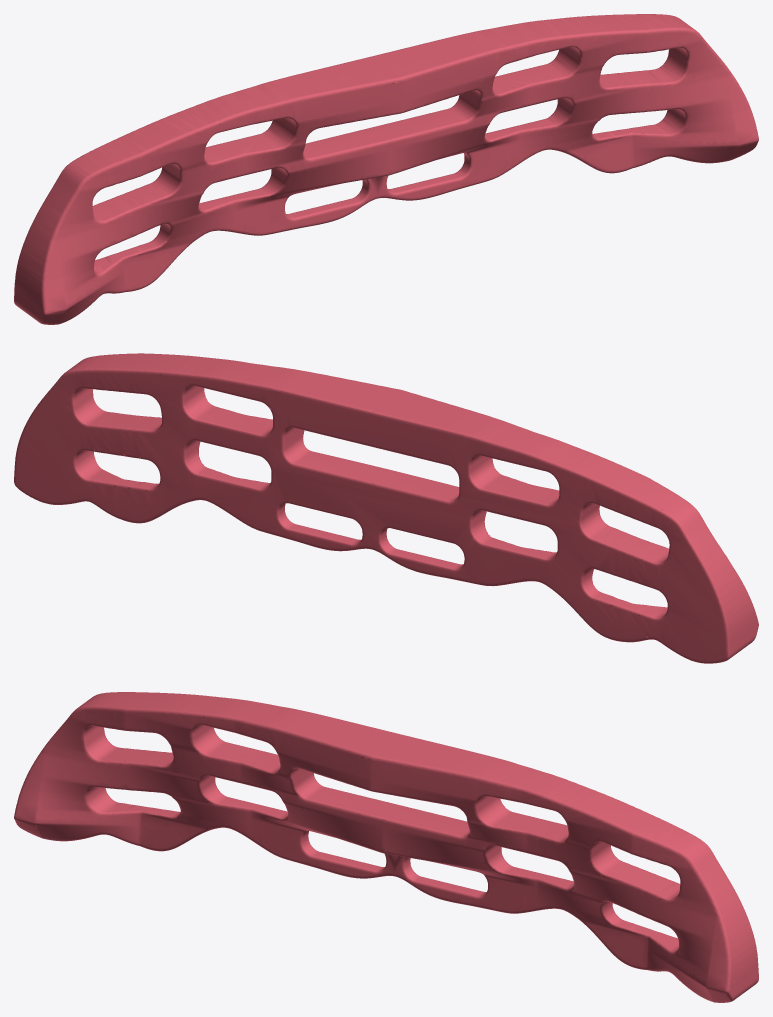
File: escape-beta-board-22.glb
3 views of the same model, one above another, from view 1: azimuth 30°, elevation 25°; view 2: azimuth 150°, elevation 25°; view 3: azimuth 330°, elevation 25° (orthographic).
Visible parts, largest first — view 1: body-board, left-sloper-50, left-jug-38, right-sloper-50, left-sloper-31, right-sloper-31, left-wide-pinch, right-incut-29, right-incut-12, left-flat-38, left-incut-29, left-thin-pinch (+11 smaller); view 2: body-board, left-jug-38, left-flat-38, left-sloper-50, right-sloper-50, right-flat-38, left-thin-pinch, left-wide-pinch, right-jug-38, right-sloper-31, left-sloper-31, left-flat-29 (+7 smaller); view 3: body-board, right-sloper-50, right-jug-38, left-sloper-50, right-sloper-31, left-sloper-31, right-wide-pinch, left-incut-29, left-incut-12, right-flat-38, right-incut-29, right-thin-pinch (+11 smaller).
Boxes of the visible parts, x1=… form: body-board: x1=85, y1=33, x2=698, y2=278; left-sloper-50: x1=278, y1=56, x2=401, y2=123; left-jug-38: x1=66, y1=114, x2=197, y2=186; right-sloper-50: x1=372, y1=33, x2=491, y2=104; left-sloper-31: x1=282, y1=127, x2=389, y2=196; right-sloper-31: x1=372, y1=104, x2=486, y2=174; left-wide-pinch: x1=14, y1=245, x2=87, y2=324; right-incut-29: x1=582, y1=58, x2=697, y2=122; right-incut-12: x1=576, y1=117, x2=699, y2=173; left-flat-38: x1=174, y1=80, x2=301, y2=140; left-incut-29: x1=86, y1=184, x2=190, y2=252; left-thin-pinch: x1=23, y1=167, x2=86, y2=261; body-board: x1=14, y1=370, x2=727, y2=663; left-jug-38: x1=569, y1=453, x2=695, y2=522; left-flat-38: x1=467, y1=417, x2=591, y2=471; left-sloper-50: x1=371, y1=390, x2=489, y2=435; right-sloper-50: x1=277, y1=370, x2=400, y2=412; right-flat-38: x1=173, y1=356, x2=299, y2=405; left-thin-pinch: x1=677, y1=508, x2=742, y2=600; left-wide-pinch: x1=677, y1=584, x2=758, y2=663; right-jug-38: x1=65, y1=353, x2=194, y2=401; right-sloper-31: x1=286, y1=446, x2=388, y2=483; left-sloper-31: x1=371, y1=469, x2=459, y2=502; left-flat-29: x1=473, y1=471, x2=559, y2=531; body-board: x1=74, y1=711, x2=687, y2=956; right-sloper-50: x1=370, y1=734, x2=494, y2=801; right-jug-38: x1=575, y1=792, x2=706, y2=864; left-sloper-50: x1=281, y1=711, x2=400, y2=782; right-sloper-31: x1=382, y1=805, x2=490, y2=874; left-sloper-31: x1=286, y1=782, x2=400, y2=852; right-wide-pinch: x1=685, y1=923, x2=758, y2=1002; left-incut-29: x1=75, y1=736, x2=190, y2=801; left-incut-12: x1=73, y1=795, x2=196, y2=851; right-flat-38: x1=471, y1=758, x2=598, y2=818; right-incut-29: x1=582, y1=862, x2=686, y2=930; right-thin-pinch: x1=685, y1=845, x2=749, y2=939.
Size of the model in its own units: 0.6605 by 0.1519 by 0.0505.
2 materials, 2 textured.
